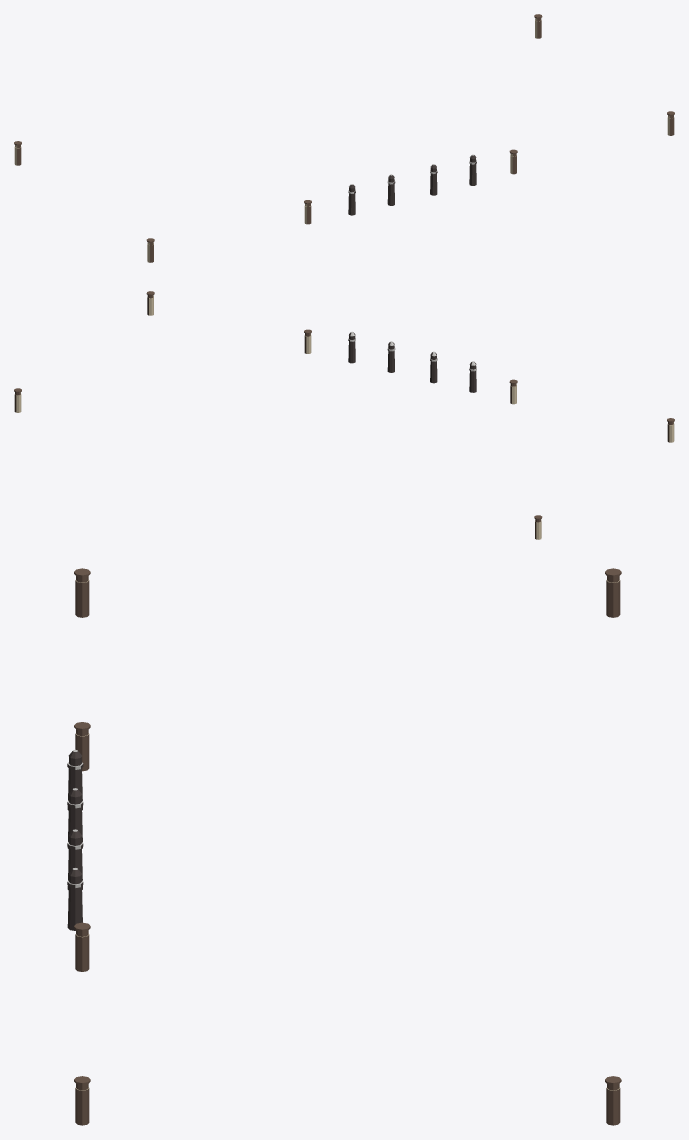
The model's file is concession_props_a.glb.
The picture shows the model from 3 angles, top to bottom: view 1: azimuth 30°, elevation 25°; view 2: azimuth 150°, elevation 25°; view 3: azimuth 270°, elevation 25°; orthographic projection. The views are drawn at different scales.
Visible parts, largest first — view 1: concession_props_a; view 2: concession_props_a; view 3: concession_props_a.
Part boxes in pixels (x1=…): concession_props_a: x1=14, y1=14, x2=674, y2=262; concession_props_a: x1=14, y1=291, x2=674, y2=539; concession_props_a: x1=67, y1=568, x2=621, y2=1125.
Bounding box in the file's own units: 17.44 × 0.93 × 7.93.
